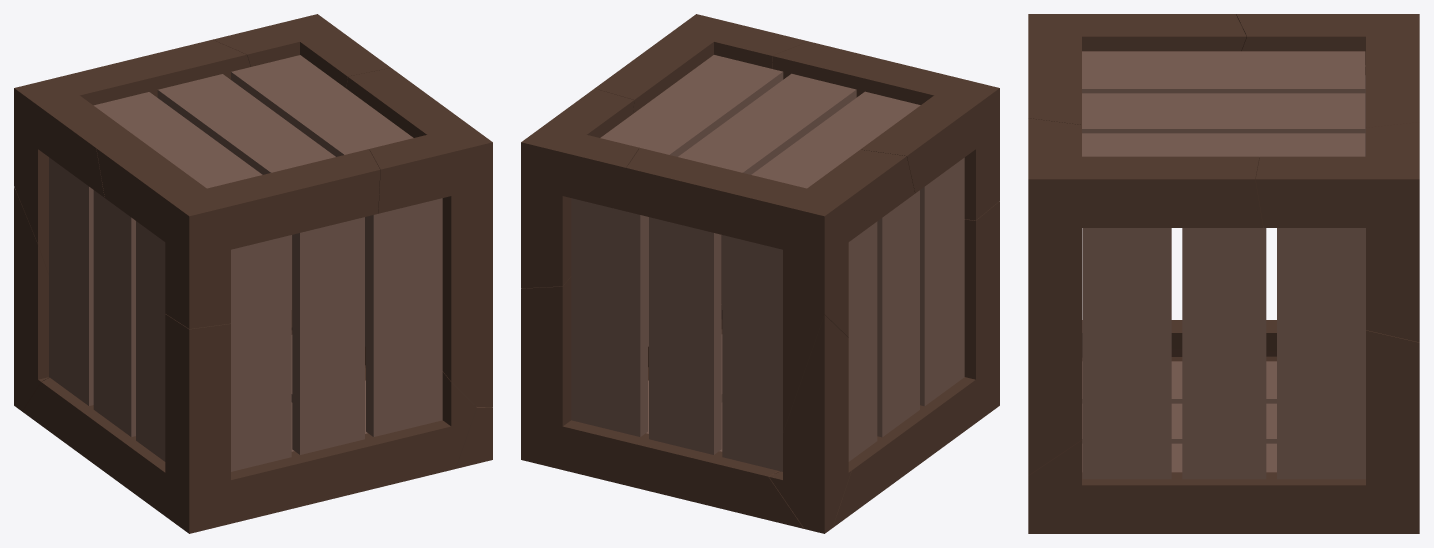
The model's file is Crate crashed.fbx.
3 renders of one model, left to right at view 1: azimuth 30°, elevation 25°; view 2: azimuth 150°, elevation 25°; view 3: azimuth 270°, elevation 25°, orthographic. The views are drawn at different scales.
Parts seen in each view (by area): view 1: Crate_cell.003, Crate_cell, Crate_cell.006, Crate.004, Crate_cell.007, Crate.005, Crate.006, Crate.007, Crate.008, Crate.015, Crate.014, Crate.009 (+4 smaller); view 2: Crate_cell.007, Crate_cell.001, Crate.010, Crate.011, Crate_cell, Crate_cell.003, Crate_cell.002, Crate.012, Crate_cell.004, Crate.009, Crate.008, Crate.015 (+4 smaller); view 3: Crate_cell.006, Crate_cell.001, Crate.001, Crate.003, Crate.002, Crate_cell.002, Crate.013, Crate_cell, Crate.014, Crate_cell.007, Crate.015, Crate.018 (+3 smaller).
Part boxes in pixels (left/top/right/bottom): Crate_cell.003: left=22, top=314, right=476, bottom=533; Crate_cell: left=96, top=134, right=380, bottom=328; Crate_cell.006: left=346, top=68, right=492, bottom=407; Crate.004: left=366, top=198, right=442, bottom=436; Crate_cell.007: left=14, top=39, right=250, bottom=274; Crate.005: left=292, top=217, right=364, bottom=454; Crate.006: left=231, top=235, right=291, bottom=471; Crate.007: left=49, top=157, right=93, bottom=405; Crate.008: left=93, top=190, right=135, bottom=436; Crate.015: left=231, top=55, right=413, bottom=156; Crate.014: left=157, top=74, right=335, bottom=174; Crate.009: left=136, top=221, right=165, bottom=461; Crate_cell.007: left=614, top=148, right=914, bottom=432; Crate_cell.001: left=521, top=276, right=803, bottom=528; Crate.010: left=571, top=198, right=647, bottom=436; Crate.011: left=649, top=217, right=721, bottom=454; Crate_cell: left=772, top=41, right=999, bottom=220; Crate_cell.003: left=721, top=201, right=999, bottom=527; Crate_cell.002: left=521, top=88, right=639, bottom=288; Crate.012: left=722, top=235, right=782, bottom=471; Crate_cell.004: left=769, top=315, right=851, bottom=533; Crate.009: left=920, top=157, right=964, bottom=406; Crate.008: left=877, top=190, right=919, bottom=437; Crate.015: left=600, top=55, right=783, bottom=156; Crate_cell.006: left=1028, top=118, right=1263, bottom=475; Crate_cell.001: left=1028, top=330, right=1419, bottom=533; Crate.001: left=1082, top=228, right=1171, bottom=479; Crate.003: left=1277, top=228, right=1365, bottom=479; Crate.002: left=1182, top=227, right=1266, bottom=479; Crate_cell.002: left=1255, top=122, right=1419, bottom=342; Crate.013: left=1082, top=51, right=1365, bottom=93; Crate_cell: left=1028, top=14, right=1246, bottom=124; Crate.014: left=1082, top=93, right=1365, bottom=133; Crate_cell.007: left=1236, top=14, right=1419, bottom=127; Crate.015: left=1082, top=133, right=1365, bottom=156; Crate.018: left=1082, top=361, right=1276, bottom=403.
Bounding box in the file's own units: 2 × 2 × 2.
